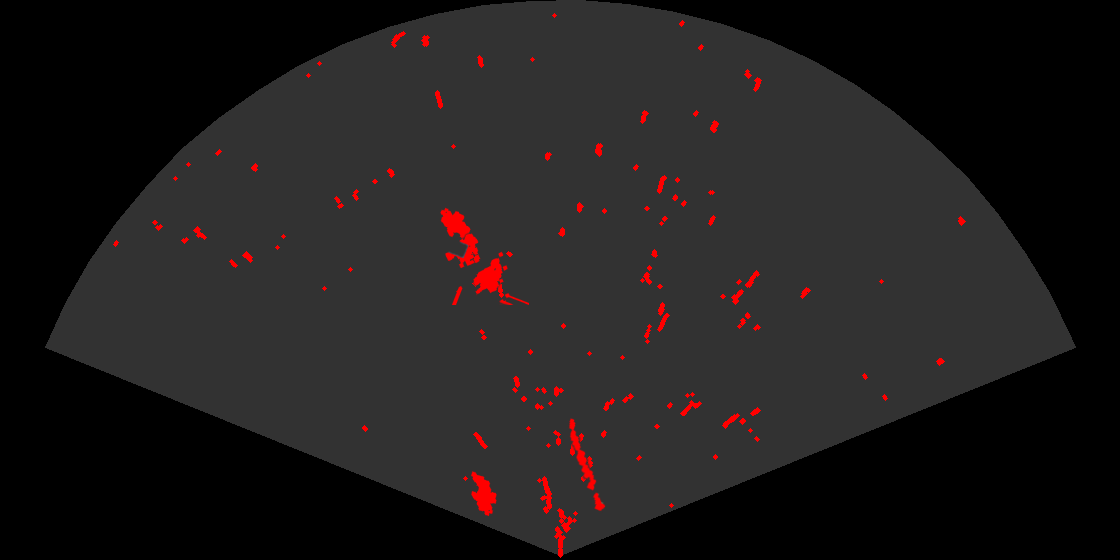AUV: (469, 470, 498, 518), (439, 206, 473, 242)
cage: (444, 232, 529, 305)
chain: (567, 417, 607, 513)
